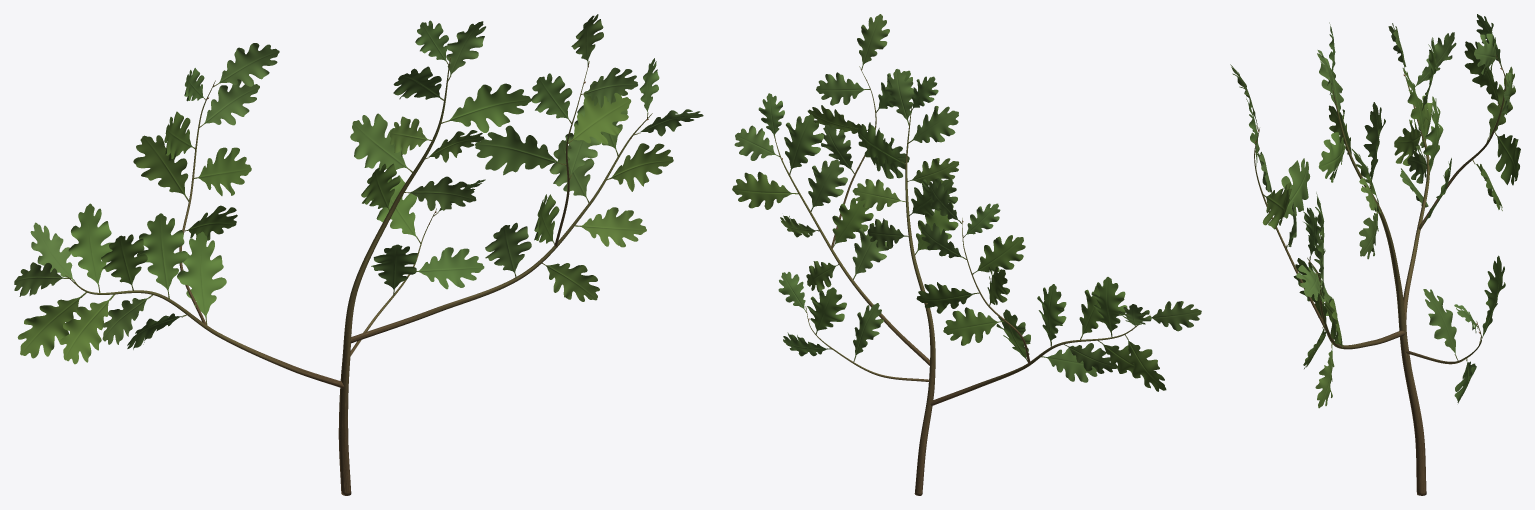
Rendered from SM_WhiteOak_Spray_Forked.fbx.
3 views of the same model, side by side, from view 1: azimuth 30°, elevation 25°; view 2: azimuth 150°, elevation 25°; view 3: azimuth 270°, elevation 25° (orthographic). The views are drawn at different scales.
Visible parts, largest first — view 1: SM_WhiteOak_Spray_Forked; view 2: SM_WhiteOak_Spray_Forked; view 3: SM_WhiteOak_Spray_Forked.
Boxes of the visible parts, x1,y1,x2,y2 form: SM_WhiteOak_Spray_Forked: (14, 14, 703, 495); SM_WhiteOak_Spray_Forked: (732, 14, 1201, 495); SM_WhiteOak_Spray_Forked: (1230, 14, 1520, 495).
Bounding box in the file's own units: 1.08 × 0.4308 × 0.8182.
